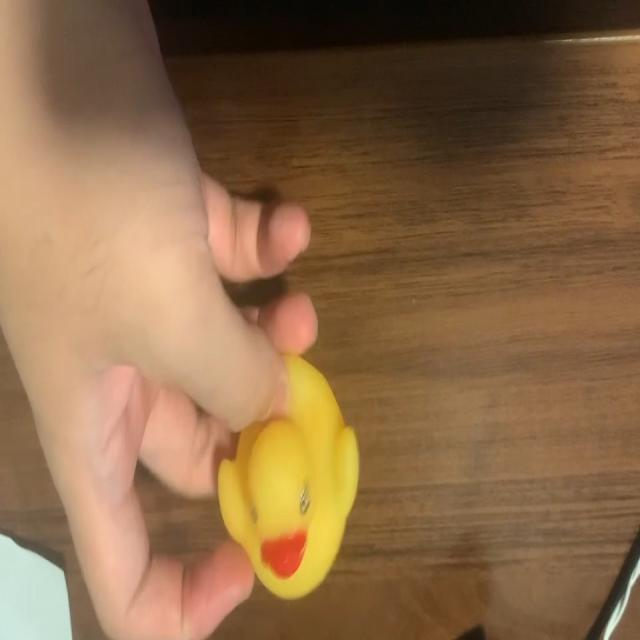rubber-duck: (217, 354, 357, 597)
